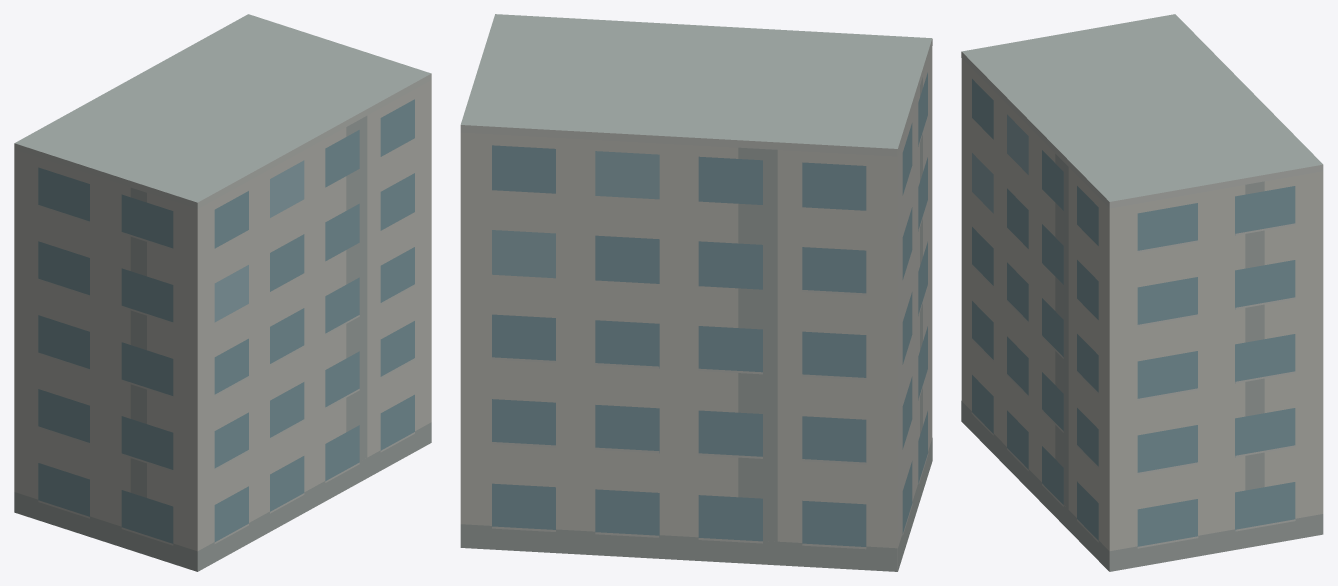
Rendered from survey-upis-32889207.glb.
3 renders of one model, left to right at view 1: azimuth 30°, elevation 25°; view 2: azimuth 150°, elevation 25°; view 3: azimuth 270°, elevation 25°, orthographic. The views are drawn at different scales.
Parts seen in each view (by area): view 1: survey-upis-32889207.tmp; view 2: survey-upis-32889207.tmp; view 3: survey-upis-32889207.tmp.
Part boxes in pixels (left/top/right/bottom): survey-upis-32889207.tmp: left=14, top=14, right=431, bottom=571; survey-upis-32889207.tmp: left=460, top=14, right=932, bottom=571; survey-upis-32889207.tmp: left=961, top=14, right=1323, bottom=571.
Size of the model in its own units: 15.04 by 13.8 by 12.24.
